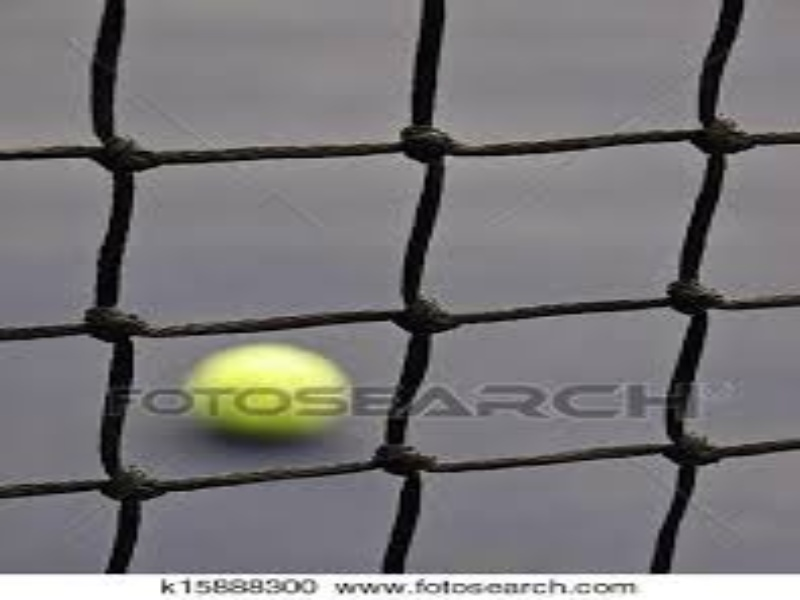tennis ball: (175, 324, 367, 442)
